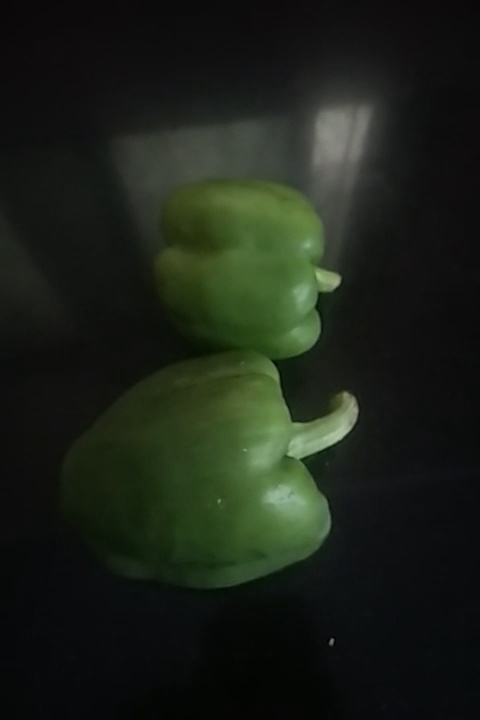capsicum: (66, 369, 340, 582), (156, 167, 327, 364)
